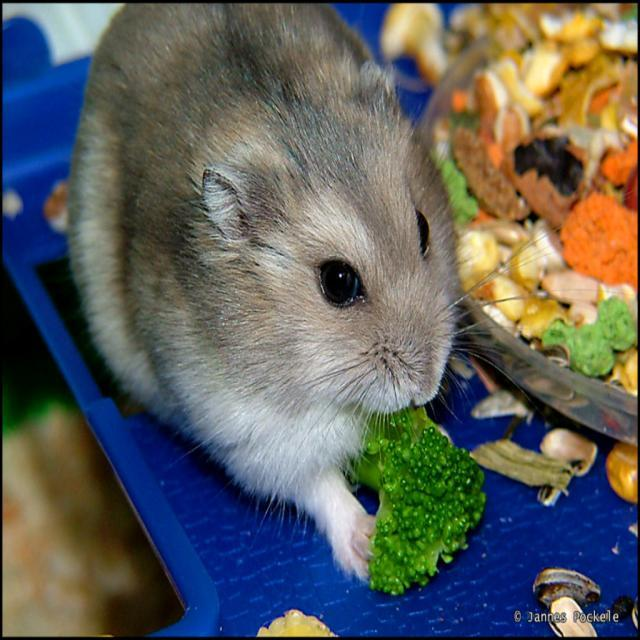rat: (68, 0, 599, 583)
